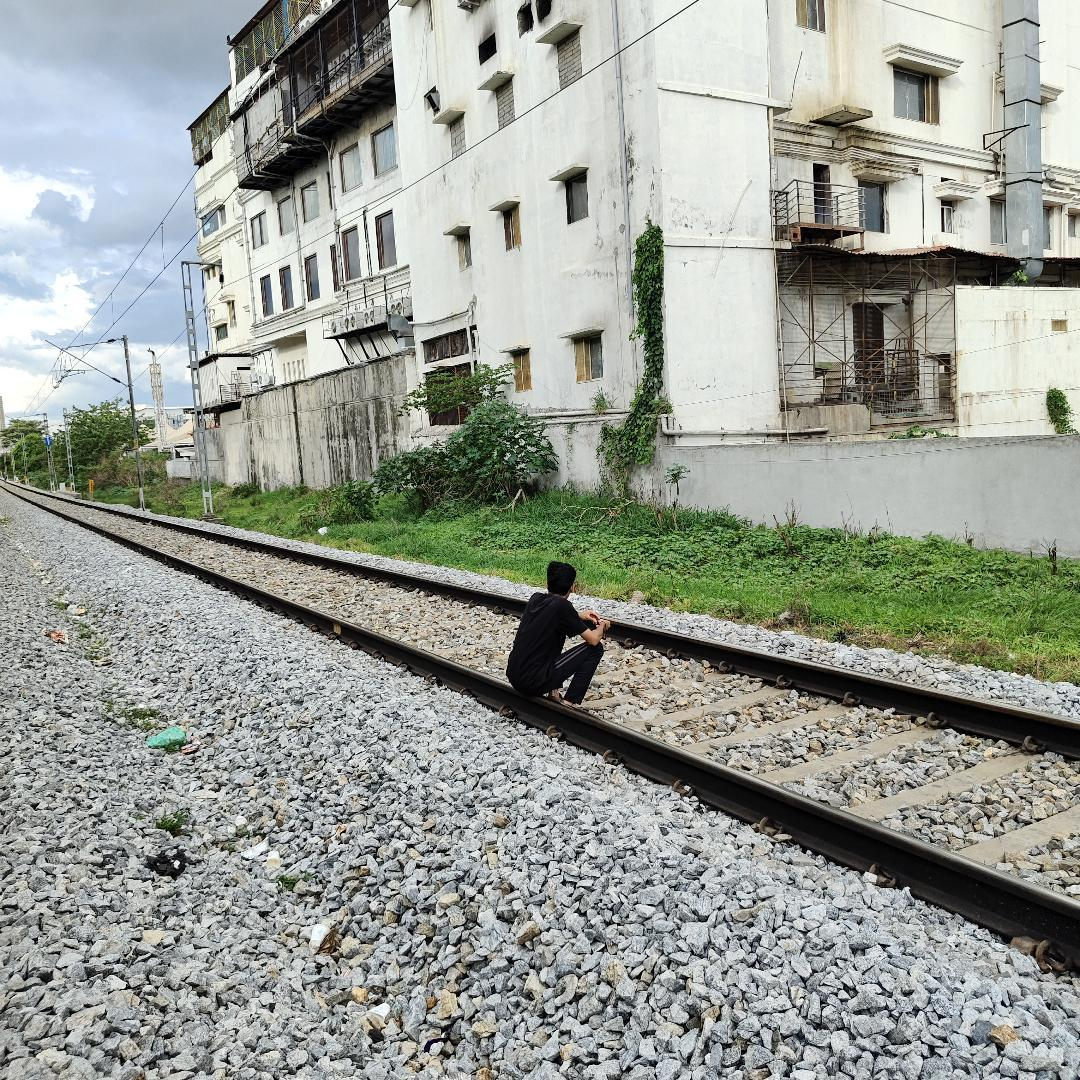sitting: (496, 550, 617, 718)
